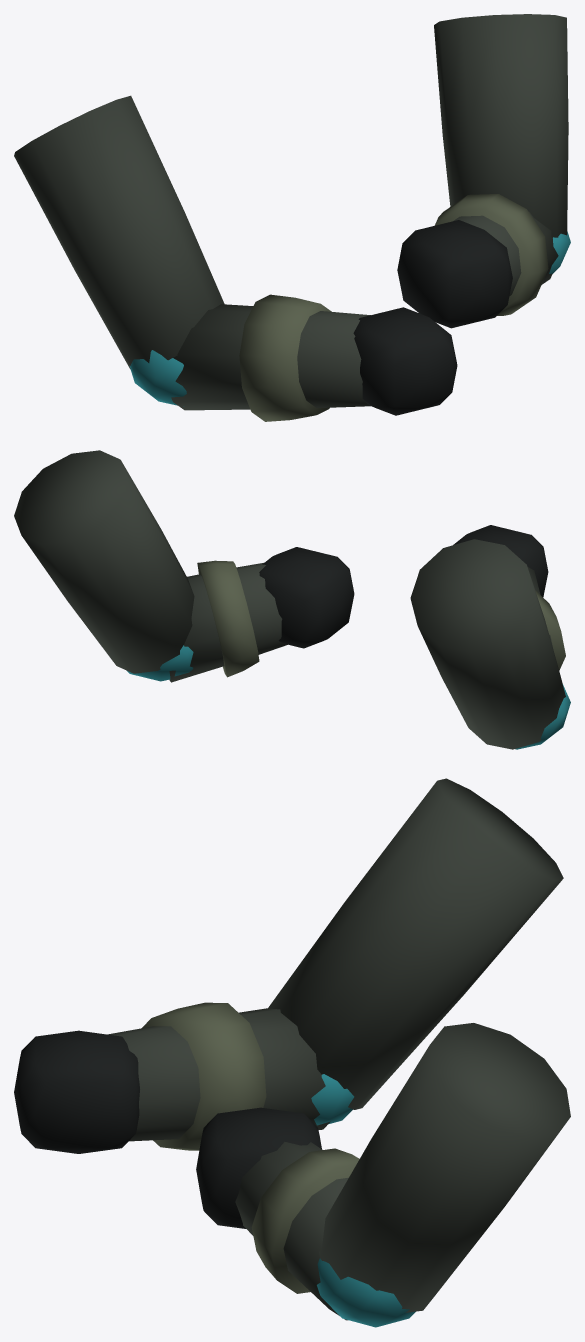
File: Bastion_Engineer_Arms.obj
3 renders of one model, top to bottom at view 1: azimuth 30°, elevation 25°; view 2: azimuth 150°, elevation 25°; view 3: azimuth 270°, elevation 25°, orthographic. The views are drawn at different scales.
Parts seen in each view (by area): view 1: LeftUpperArm, RightUpperArm, LeftForearm, RightGlove, LeftGlove, LeftBracer, RightBracer, LeftElbowPad, RightForearm; view 2: RightUpperArm, LeftUpperArm, RightGlove, RightForearm, RightBracer, LeftGlove, RightElbowPad, LeftBracer, LeftElbowPad; view 3: LeftUpperArm, RightUpperArm, LeftGlove, LeftForearm, LeftBracer, RightGlove, RightBracer, RightForearm, RightElbowPad, LeftElbowPad.
Boxes of the visible parts, x1,y1,x2,y2 form: LeftUpperArm: (14,95,224,368); RightUpperArm: (434,14,568,237); LeftForearm: (171,304,370,410); RightGlove: (397,220,512,328); LeftGlove: (353,307,457,415); LeftBracer: (239,294,331,421); RightBracer: (435,194,548,315); LeftElbowPad: (129,350,186,406); RightForearm: (453,212,558,296); RightUpperArm: (14,450,194,673); LeftUpperArm: (410,539,565,749); RightGlove: (259,547,354,648); RightForearm: (169,563,287,682); RightBracer: (197,560,259,677); LeftGlove: (453,525,548,597); RightElbowPad: (126,645,193,681); LeftBracer: (535,590,565,670); LeftElbowPad: (515,684,570,749); LeftUpperArm: (268,778,563,1109); RightUpperArm: (319,1023,570,1312); LeftGlove: (14,1030,139,1153); LeftForearm: (107,1008,330,1141); LeftBracer: (142,1002,266,1150); RightGlove: (196,1107,321,1228); RightBracer: (251,1148,359,1293); RightForearm: (235,1142,348,1320); RightElbowPad: (317,1258,415,1327); LeftElbowPad: (311,1074,354,1125).
Size of the model in its own units: 0.7841 by 0.3693 by 0.5811.
Materials: 1 (1 with a texture image).
